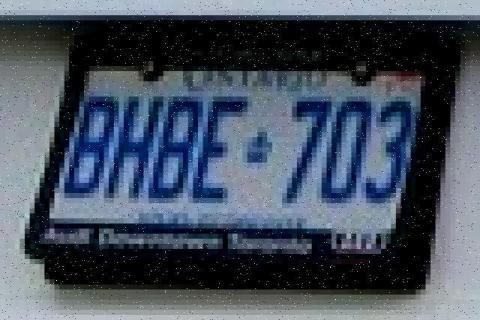LicensePlate: (10, 10, 453, 310)
